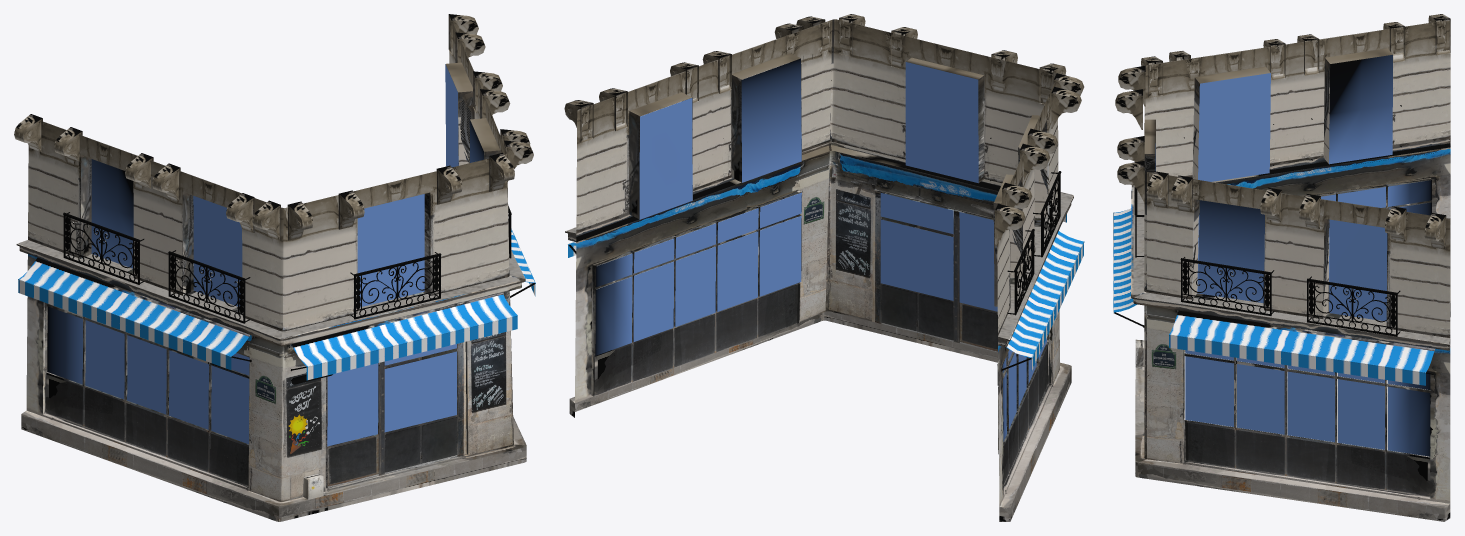
File: ENV_Glacier.fbx
The picture shows the model from 3 angles, left to right: view 1: azimuth 30°, elevation 25°; view 2: azimuth 150°, elevation 25°; view 3: azimuth 270°, elevation 25°; orthographic projection. The views are drawn at different scales.
Parts seen in each view (by area): view 1: ENV_Glacier_01; view 2: ENV_Glacier_01; view 3: ENV_Glacier_01.
Part boxes in pixels (bbox=[...]): ENV_Glacier_01: bbox=[14, 14, 535, 521]; ENV_Glacier_01: bbox=[564, 14, 1084, 521]; ENV_Glacier_01: bbox=[1113, 14, 1450, 521].
Size of the model in its own units: 1358 by 866 by 881.
